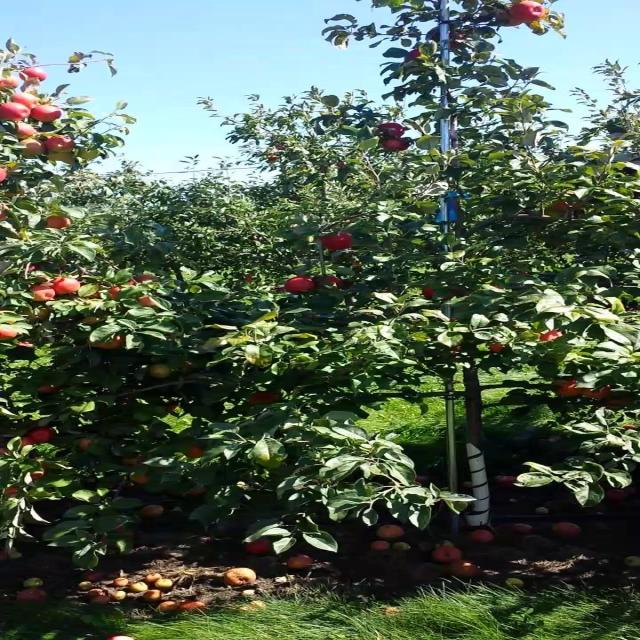apple: (504, 4, 540, 27), (319, 232, 356, 252), (511, 4, 548, 23), (92, 336, 128, 351), (284, 276, 315, 293), (554, 380, 583, 398), (20, 140, 46, 159), (604, 396, 635, 411), (35, 108, 64, 124), (49, 136, 78, 152), (28, 428, 57, 444), (6, 104, 30, 123), (20, 68, 50, 83), (426, 288, 455, 303), (497, 12, 524, 28), (248, 392, 281, 405), (35, 284, 57, 303), (248, 540, 274, 556), (56, 280, 82, 295), (148, 364, 174, 379), (13, 124, 37, 140), (582, 388, 613, 400), (13, 96, 41, 109), (376, 124, 405, 136), (383, 140, 412, 152), (319, 276, 347, 288), (426, 288, 448, 303), (49, 152, 76, 164), (28, 308, 52, 321), (49, 216, 71, 230), (77, 148, 100, 161), (554, 200, 581, 211), (540, 332, 564, 343), (184, 448, 206, 460), (84, 288, 105, 300), (561, 200, 583, 211), (35, 464, 50, 480), (6, 188, 27, 199), (6, 76, 23, 89), (554, 200, 572, 212), (13, 340, 36, 349), (106, 288, 123, 300), (20, 436, 36, 448), (127, 456, 148, 465), (6, 328, 21, 340), (141, 296, 156, 308), (77, 440, 92, 452), (134, 276, 156, 283), (42, 388, 62, 395), (0, 168, 9, 182), (490, 344, 505, 352), (134, 476, 149, 484), (6, 488, 21, 496), (28, 264, 43, 272), (191, 488, 206, 496), (0, 168, 9, 181), (625, 424, 638, 431), (454, 40, 464, 48), (170, 404, 180, 412), (454, 344, 462, 353), (412, 52, 421, 59)
